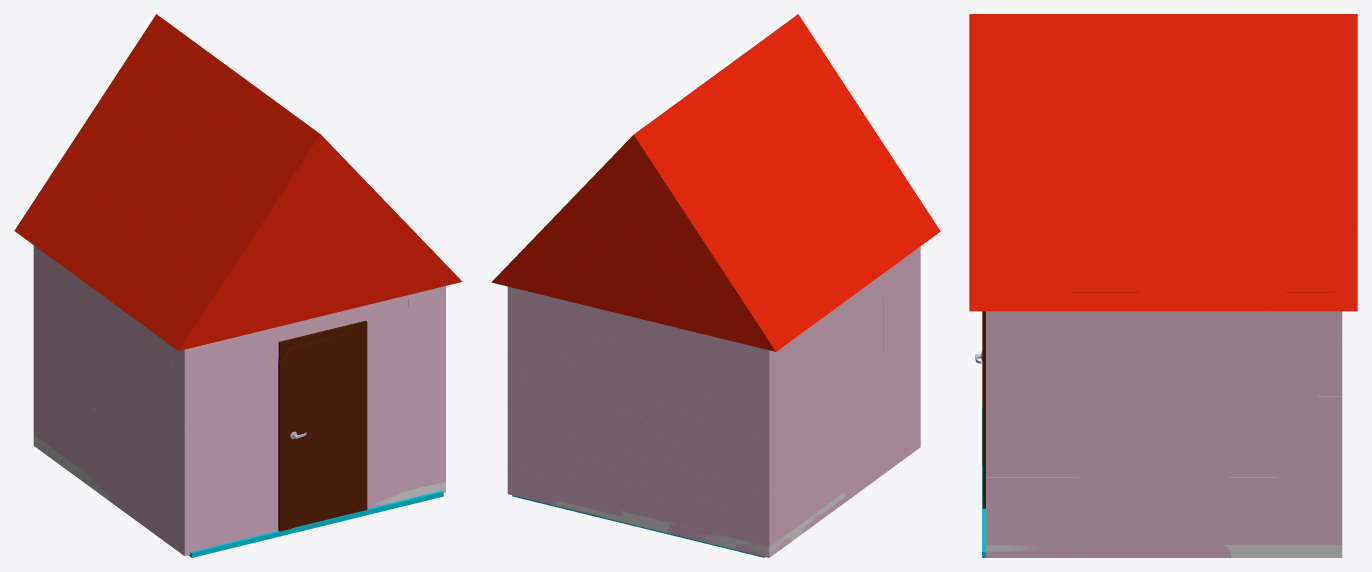
File: Breakable hause.fbx
3 renders of one model, left to right at view 1: azimuth 30°, elevation 25°; view 2: azimuth 150°, elevation 25°; view 3: azimuth 270°, elevation 25°, orthographic. The views are drawn at different scales.
Visible parts, largest first — view 1: DoorFrame_cell.030, Techo_cell.014, Room_cell.094, Techo_cell.022, Door_cell.007, Door_cell.003, Room_cell.073, Room_cell.093, Room_cell.005, Room_cell.042, Door_cell, Techo_cell.093 (+82 smaller); view 2: Room_cell.075, Room_cell.091, Room_cell.003, Room_cell.086, Techo_cell.097, Techo_cell.004, Room_cell.067, Room_cell.020, Room_cell.048, Techo_cell.037, Techo_cell.011, Techo_cell.084 (+94 smaller); view 3: Techo_cell.063, Room_cell.035, Techo_cell.082, Techo_cell.039, Room_cell.001, Room_cell.076, Techo_cell.074, Techo_cell.058, Techo_cell.078, Techo_cell, Room_cell.021, Techo_cell.075 (+46 smaller).
Part boxes in pixels (x1,y1,x2,y2): DoorFrame_cell.030: (278, 340, 323, 442); Techo_cell.014: (330, 234, 410, 311); Room_cell.094: (168, 476, 233, 555); Techo_cell.022: (303, 207, 381, 290); Door_cell.007: (323, 331, 359, 431); Door_cell.003: (323, 422, 359, 520); Room_cell.073: (233, 466, 278, 541); Room_cell.093: (375, 307, 445, 378); Room_cell.005: (184, 407, 247, 475); Room_cell.042: (163, 441, 233, 511); Door_cell: (292, 433, 323, 527); Techo_cell.093: (240, 191, 302, 263); Room_cell.075: (718, 353, 799, 440); Room_cell.091: (519, 354, 606, 435); Room_cell.003: (508, 291, 572, 362); Room_cell.086: (655, 322, 741, 401); Techo_cell.097: (651, 253, 704, 331); Techo_cell.004: (705, 263, 778, 324); Room_cell.067: (686, 414, 741, 482); Room_cell.020: (526, 404, 578, 478); Room_cell.048: (733, 487, 790, 542); Techo_cell.037: (752, 246, 811, 330); Techo_cell.011: (692, 310, 803, 351); Techo_cell.084: (787, 114, 847, 173); Techo_cell.063: (1161, 88, 1289, 223); Room_cell.035: (986, 477, 1113, 557); Techo_cell.082: (1056, 69, 1185, 162); Techo_cell.039: (1189, 14, 1284, 124); Room_cell.001: (1078, 493, 1230, 557); Room_cell.076: (1253, 311, 1342, 396); Techo_cell.074: (1250, 163, 1357, 255); Techo_cell.058: (978, 14, 1079, 106); Techo_cell.078: (1212, 213, 1284, 311); Techo_cell: (969, 107, 1041, 199); Room_cell.021: (1052, 395, 1120, 496); Techo_cell.075: (1139, 237, 1211, 311).
Bounding box in the file's own units: 3560 × 4759 × 3564.
